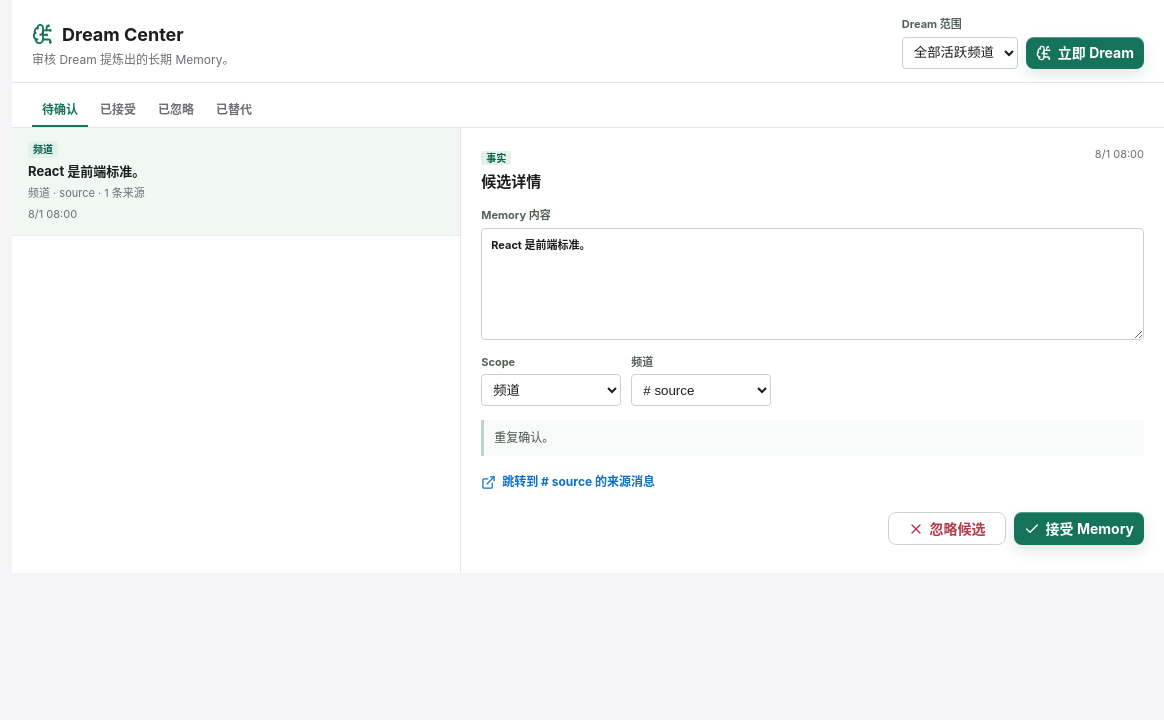
it: DreamCenter › reports an empty completed Dream run and a failed Dream run
The width and height of the screenshot is (1164, 720).
Select "# source" in the dropdown labelled "Dream 范围": {"x": 960, "y": 52} x1=902 y1=36 x2=1018 y2=68
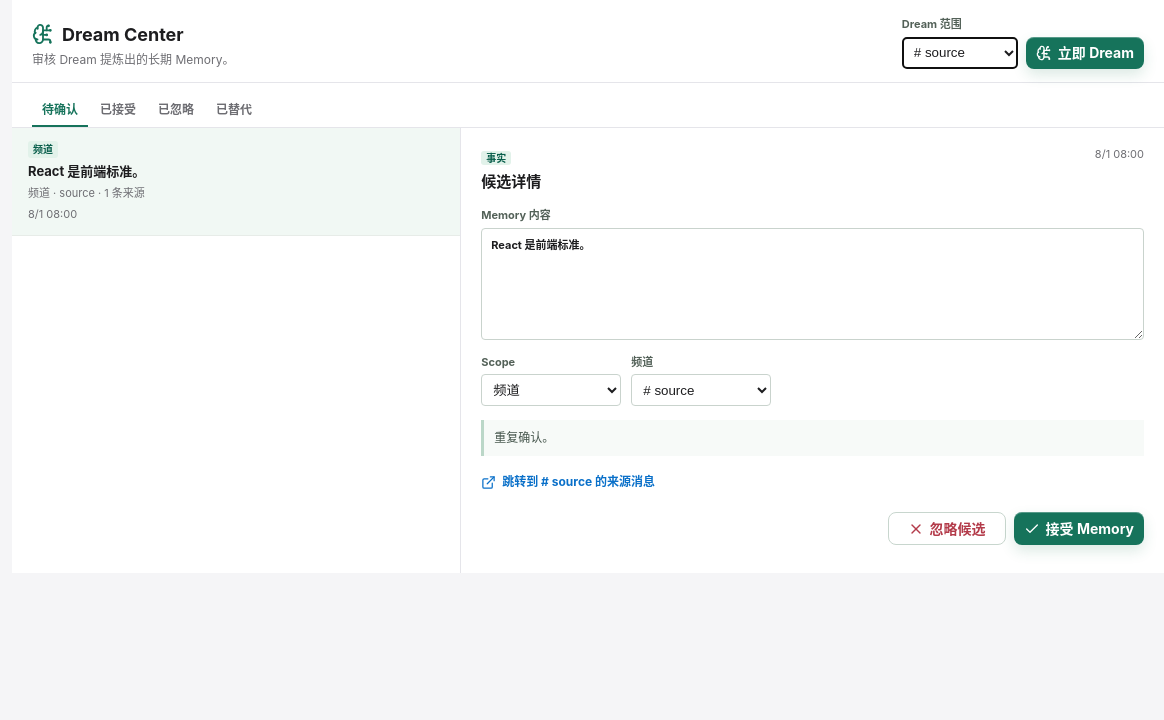
Click the button "立即 Dream": {"x": 1085, "y": 52} x1=1026 y1=36 x2=1144 y2=68
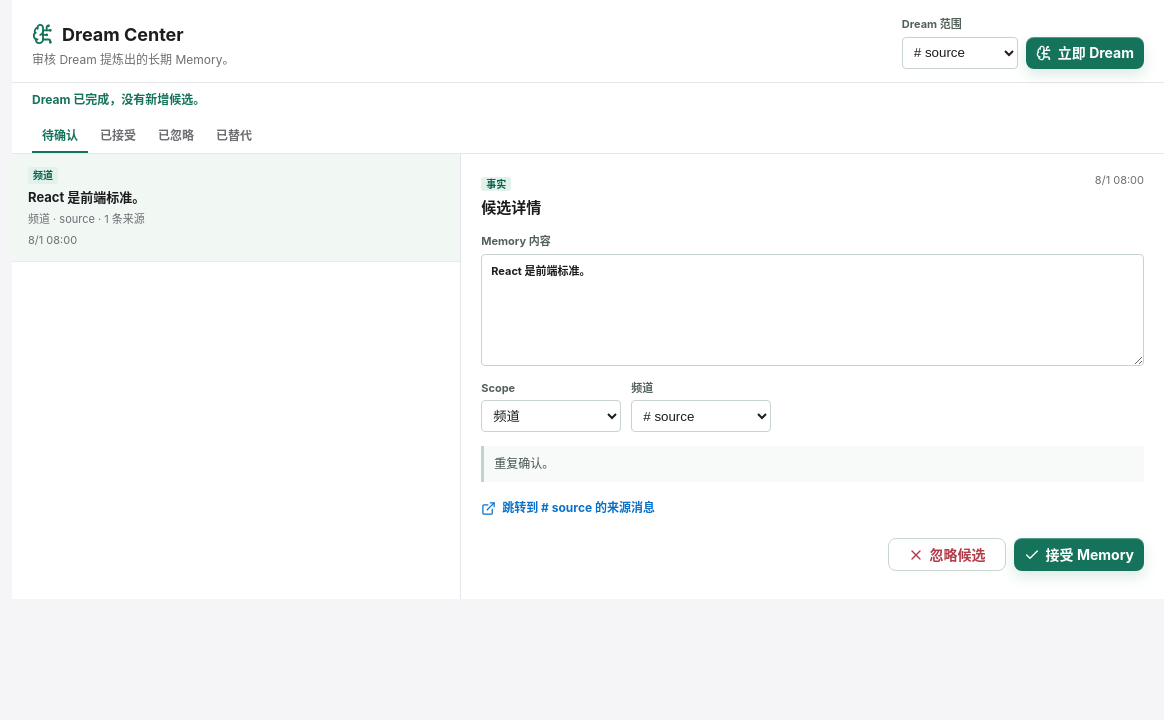
Now the message reads "Dream 已完成，没有新增候选。", box x1=32 y1=92 x2=205 y2=106
Click the button "立即 Dream": {"x": 1085, "y": 52} x1=1026 y1=36 x2=1144 y2=68
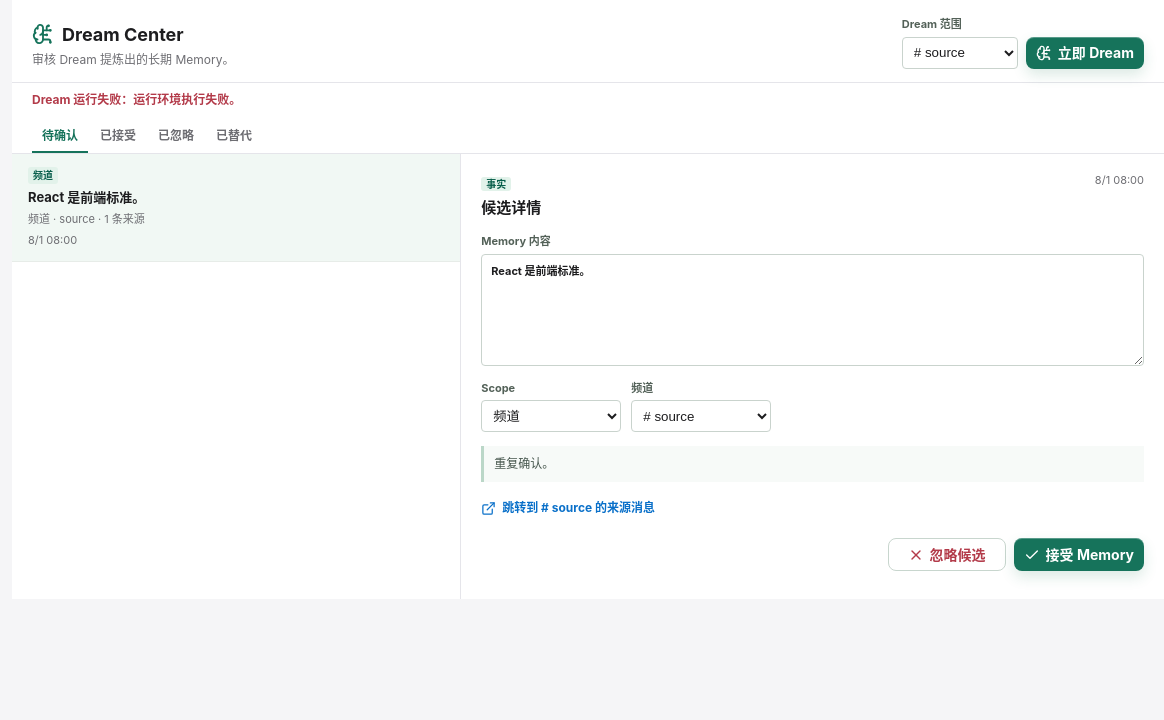
Now the message reads "Dream 运行失败：运行环境执行失败。", box x1=32 y1=92 x2=241 y2=106
